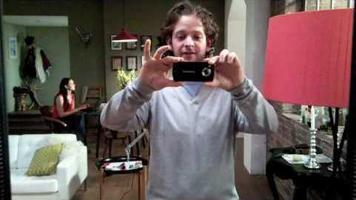person: (100, 4, 279, 200)
